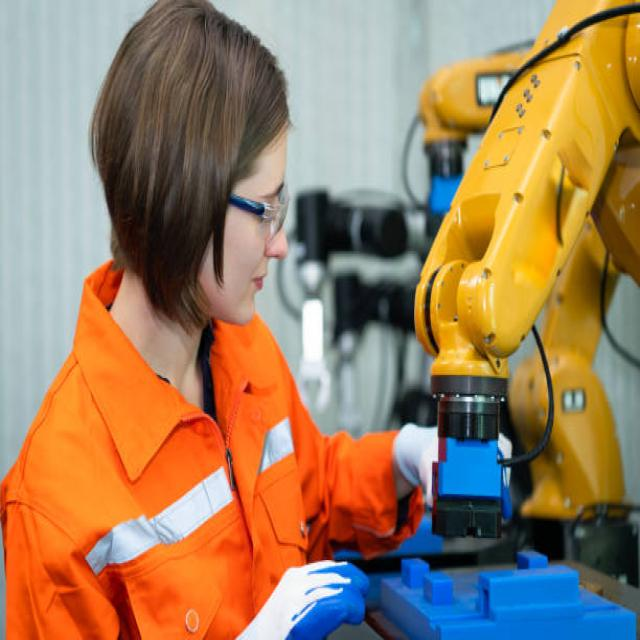Robotic-arm: (394, 0, 640, 516)
